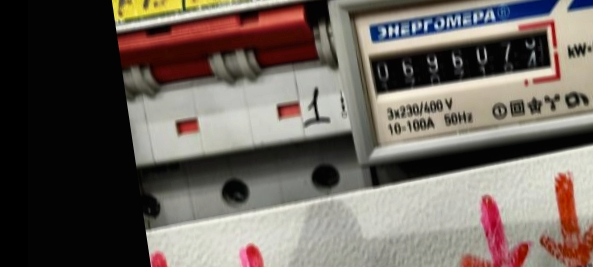0: (471, 40, 489, 64), (372, 58, 389, 81)
4: (522, 46, 538, 69)
6: (397, 54, 414, 76), (446, 46, 463, 68)
7: (496, 39, 513, 62)
9: (421, 50, 437, 73)
screen: (353, 16, 565, 104)
